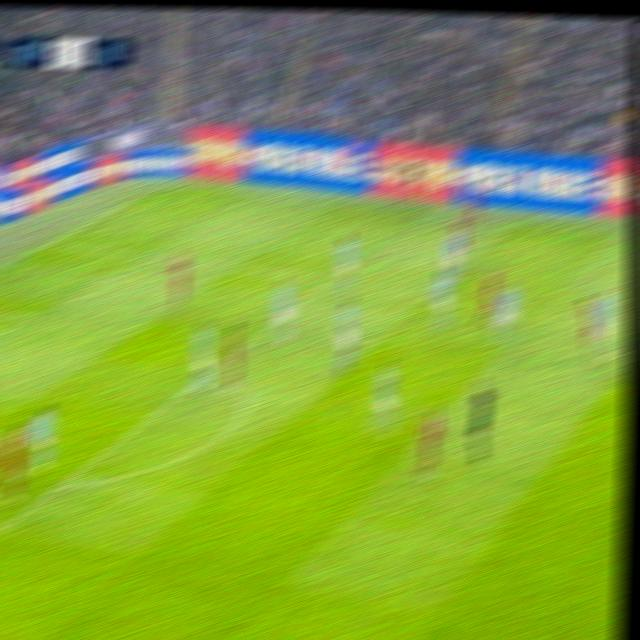bigarea_top_inner: (317, 272, 335, 287)
bigarea_top_outter: (41, 238, 60, 249)
bottom_arc_area_intersection: (45, 477, 73, 494)
corner: (155, 177, 181, 189)
smallarea_top_inner: (14, 314, 34, 327)
top_arc_area_intersection: (215, 356, 230, 367)
